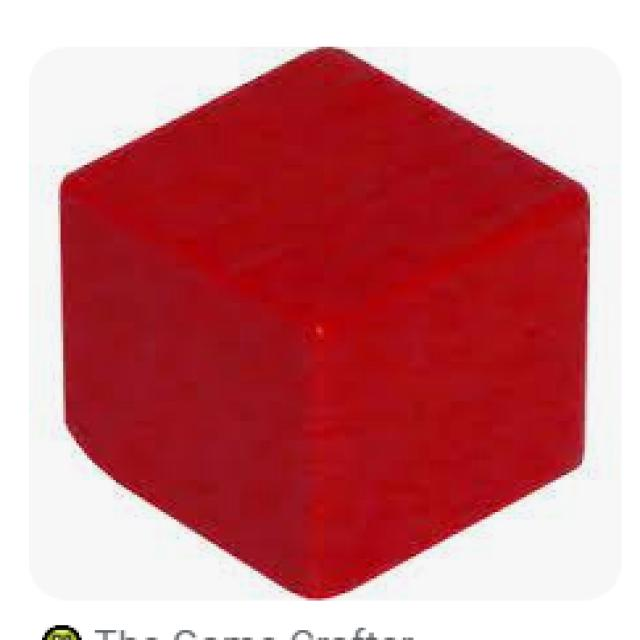red cube: (50, 37, 592, 605)
